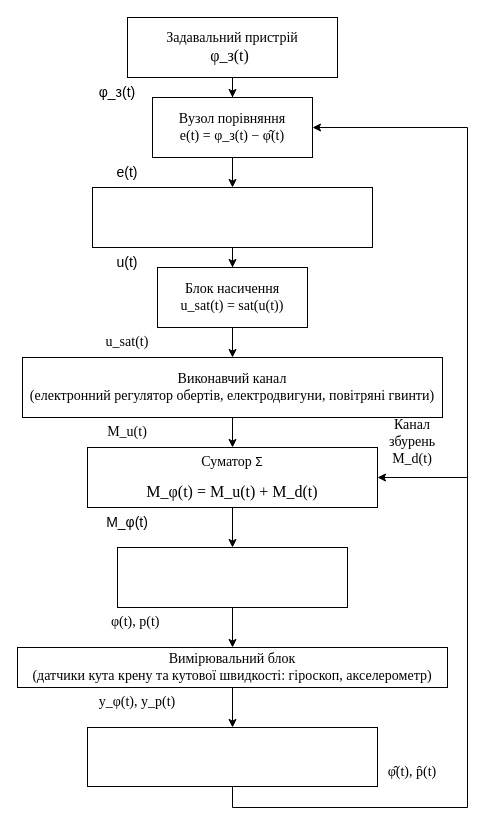
Some shapes in this 493 by 833 pixel diagram are drawn without their labels. Each missing label, with the box of its shape:
Блок оцінювання стану (фільтр Калмана): (86, 726, 378, 786)
Об’єкт автоматичного управління (БПЛА-квадрокоптер у каналі крену): (116, 546, 348, 608)
Регулятор W_р(s) u(t) = k_φ e(t) + k_z z(t) − k_p p̂(t): (92, 186, 372, 248)
